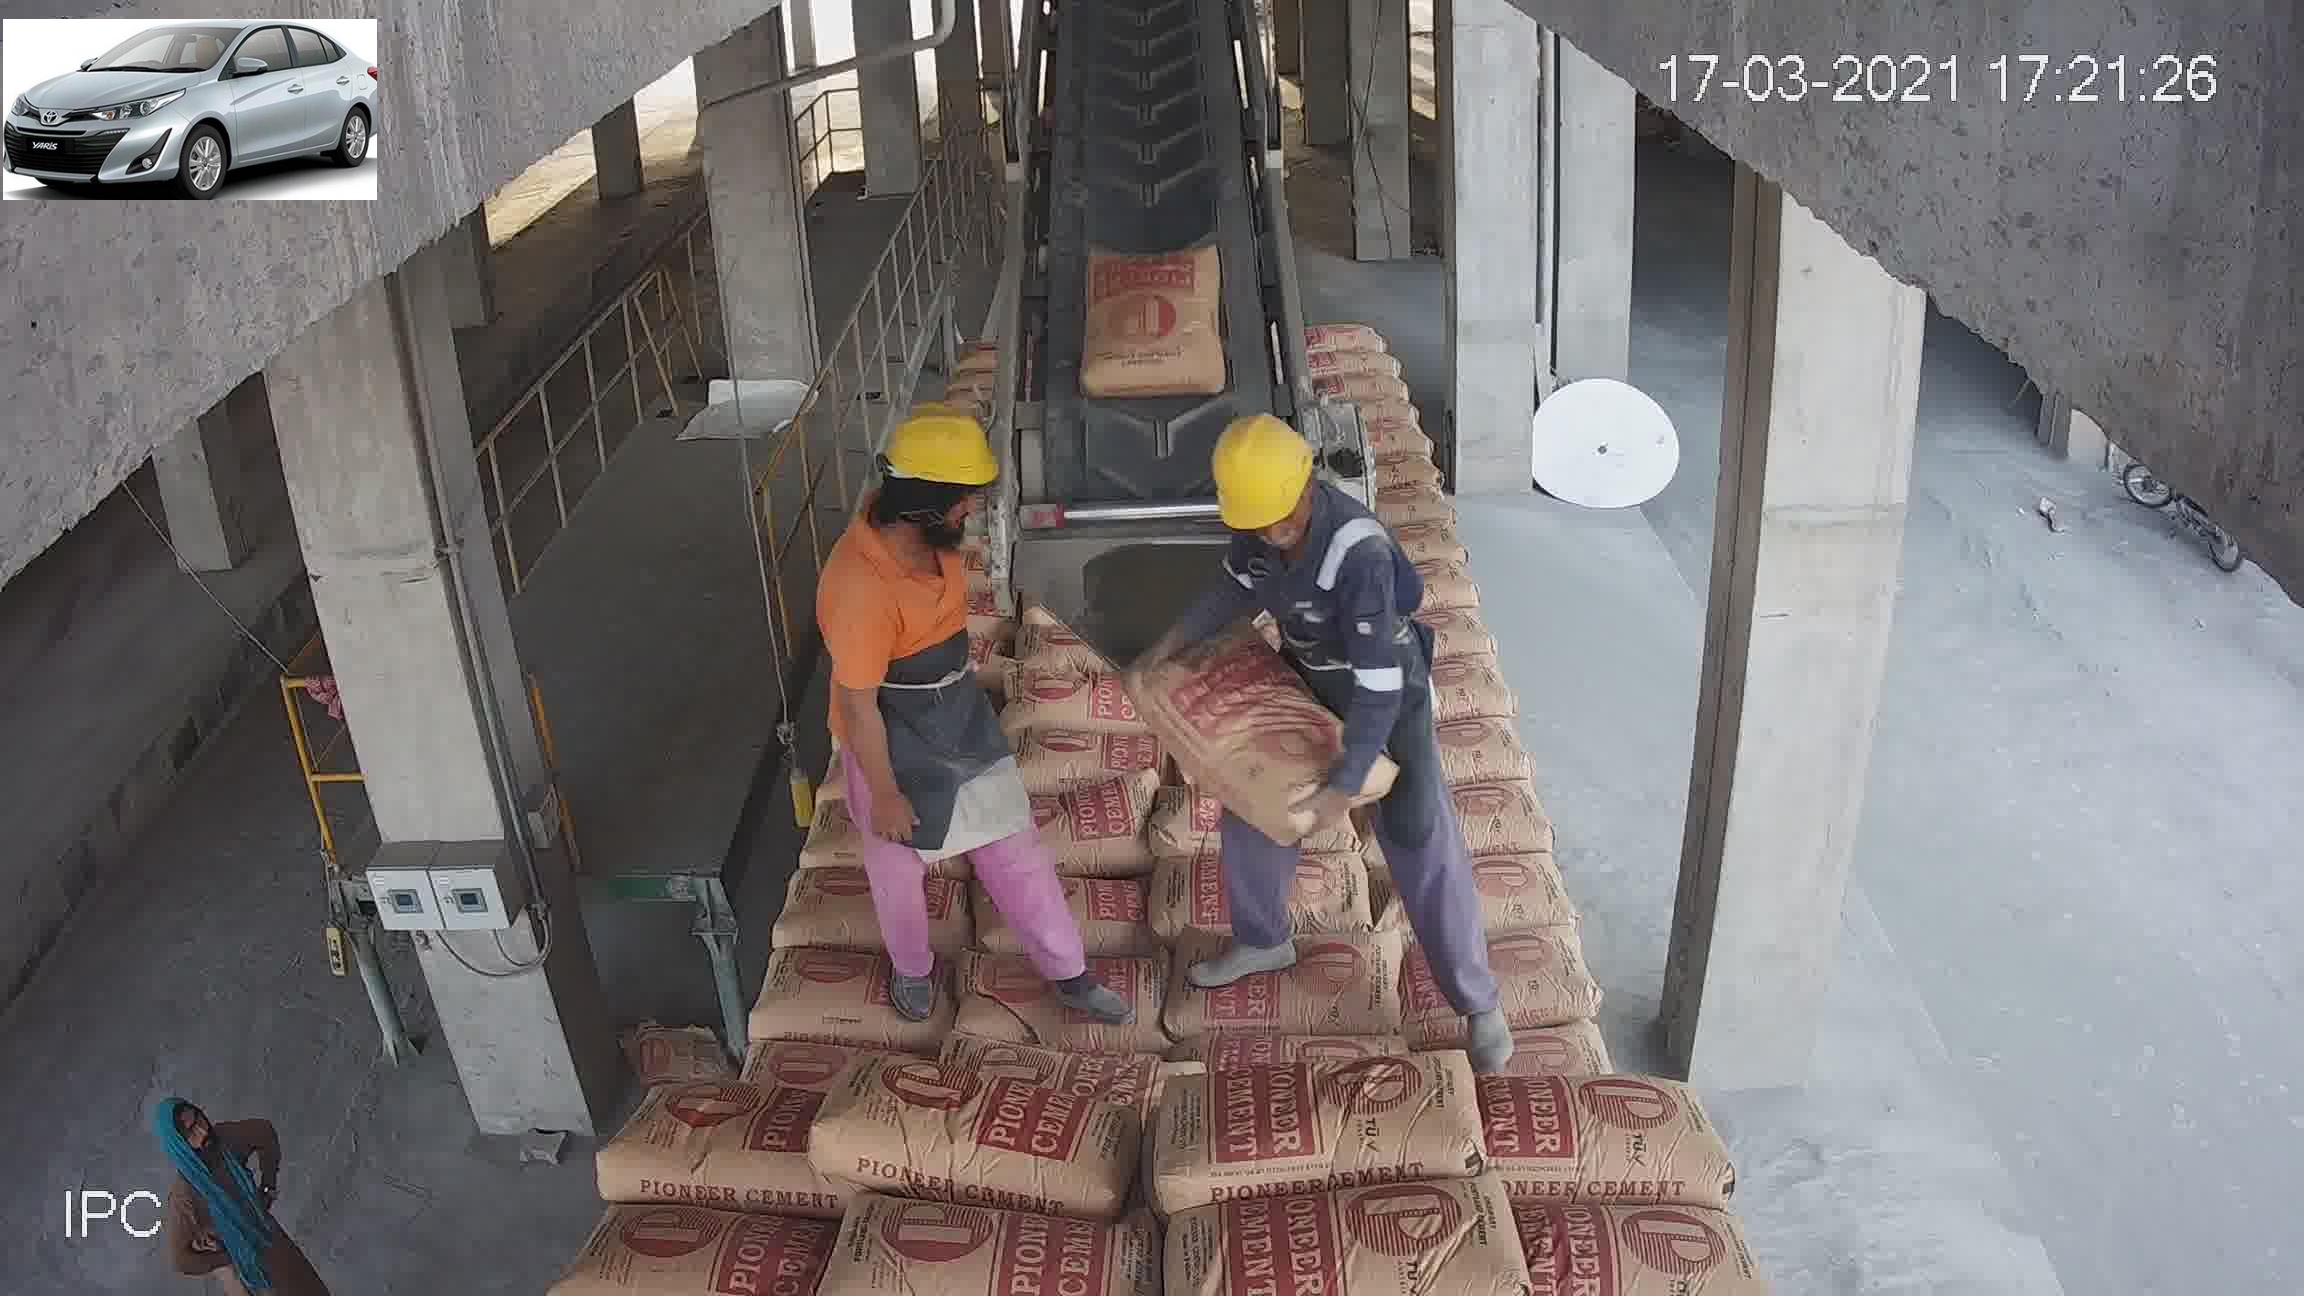bag_h: (1146, 1033, 1510, 1212), (1166, 1146, 1541, 1296), (1138, 918, 1454, 1079), (804, 1076, 1149, 1203), (1154, 829, 1426, 965), (873, 836, 1152, 967), (631, 953, 885, 1097), (1127, 711, 1396, 845), (881, 945, 1147, 1078), (603, 1070, 824, 1222), (1472, 1082, 1733, 1199), (793, 1214, 1161, 1296), (1472, 962, 1693, 1090), (582, 1188, 836, 1287), (687, 866, 911, 975), (892, 750, 1154, 843), (1434, 858, 1654, 961), (1516, 1211, 1768, 1296), (1400, 753, 1600, 851), (715, 782, 880, 880), (994, 658, 1174, 737), (1029, 552, 1174, 635), (1383, 642, 1499, 737), (1021, 601, 1185, 668), (1033, 707, 1206, 769), (1173, 510, 1299, 576), (1416, 709, 1537, 775), (900, 498, 1033, 552), (1154, 612, 1264, 676), (905, 538, 1032, 592), (1169, 563, 1279, 625), (905, 468, 1005, 519), (907, 430, 1017, 468)
belt: (1021, 0, 1294, 492)
